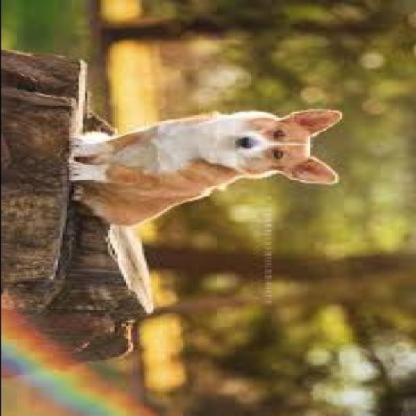dog: (59, 106, 347, 230)
